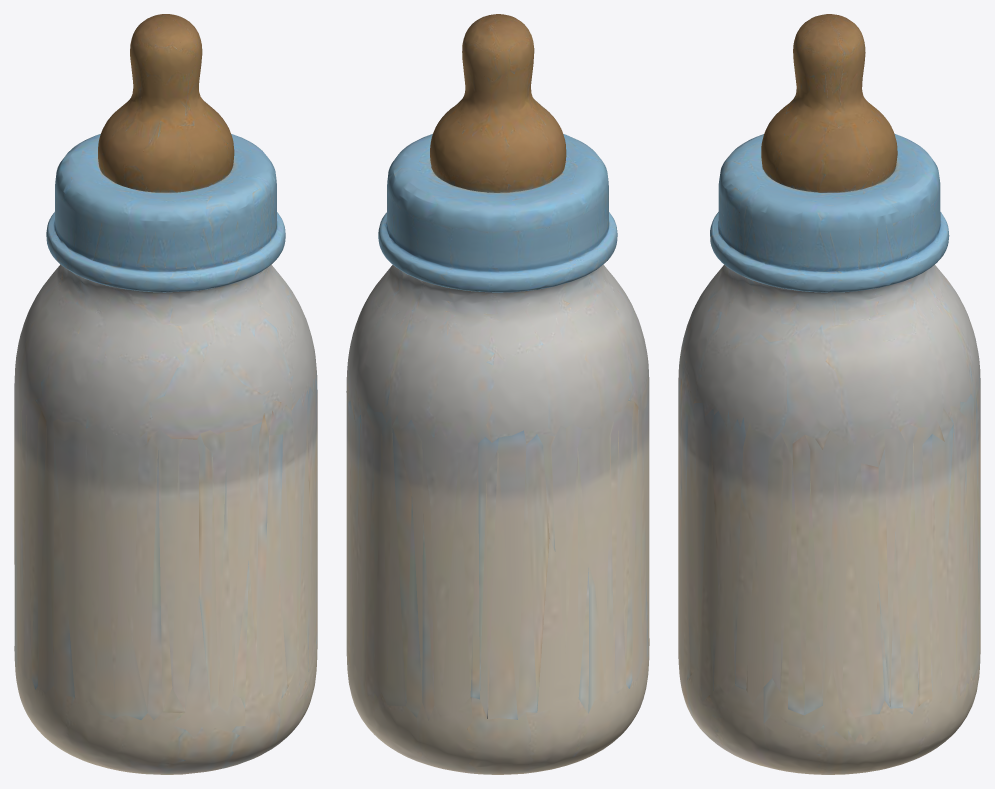
The model's file is bottle.glb.
The picture shows the model from 3 angles, left to right: view 1: azimuth 30°, elevation 25°; view 2: azimuth 150°, elevation 25°; view 3: azimuth 270°, elevation 25°; orthographic projection.
Size of the model in its own units: 0.7326 by 1.9 by 0.7322.
Materials: 1 (1 with a texture image).
